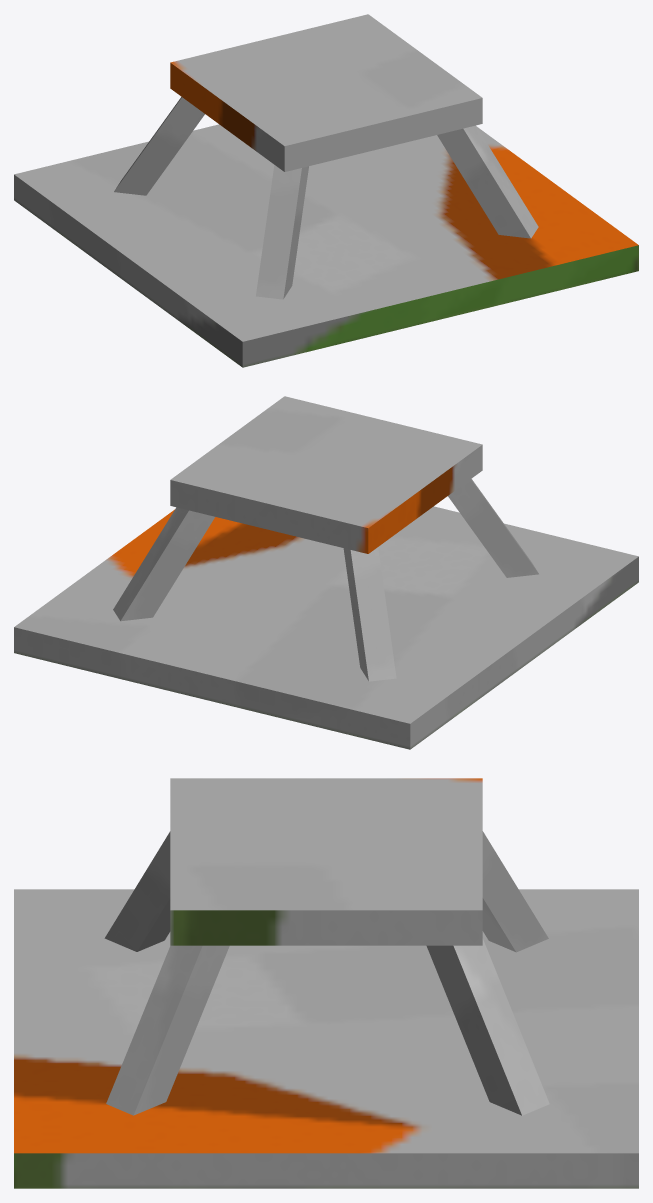
Rendered from assembly_platform.obj.
The picture shows the model from 3 angles, top to bottom: view 1: azimuth 30°, elevation 25°; view 2: azimuth 150°, elevation 25°; view 3: azimuth 270°, elevation 25°; orthographic projection. The views are drawn at different scales.
Visible parts, largest first — view 1: Base, Platform, Leg1, Leg4, Leg3; view 2: Base, Platform, Leg2, Leg3, Leg4; view 3: Base, Platform, Leg2, Leg1, Leg3, Leg4.
Boxes of the visible parts, x1,y1,x2,y2 form: Base: [14, 124, 638, 367]; Platform: [170, 14, 482, 171]; Leg1: [437, 125, 538, 238]; Leg4: [256, 165, 308, 299]; Leg3: [114, 97, 204, 195]; Base: [14, 506, 638, 749]; Platform: [170, 396, 482, 553]; Leg2: [113, 507, 214, 621]; Leg3: [343, 547, 396, 681]; Leg4: [448, 479, 538, 577]; Base: [14, 889, 638, 1188]; Platform: [170, 778, 482, 945]; Leg2: [426, 938, 549, 1115]; Leg1: [106, 945, 229, 1115]; Leg3: [482, 831, 548, 952]; Leg4: [104, 831, 170, 951].
Size of the model in its own units: 1 by 0.375 by 1.
